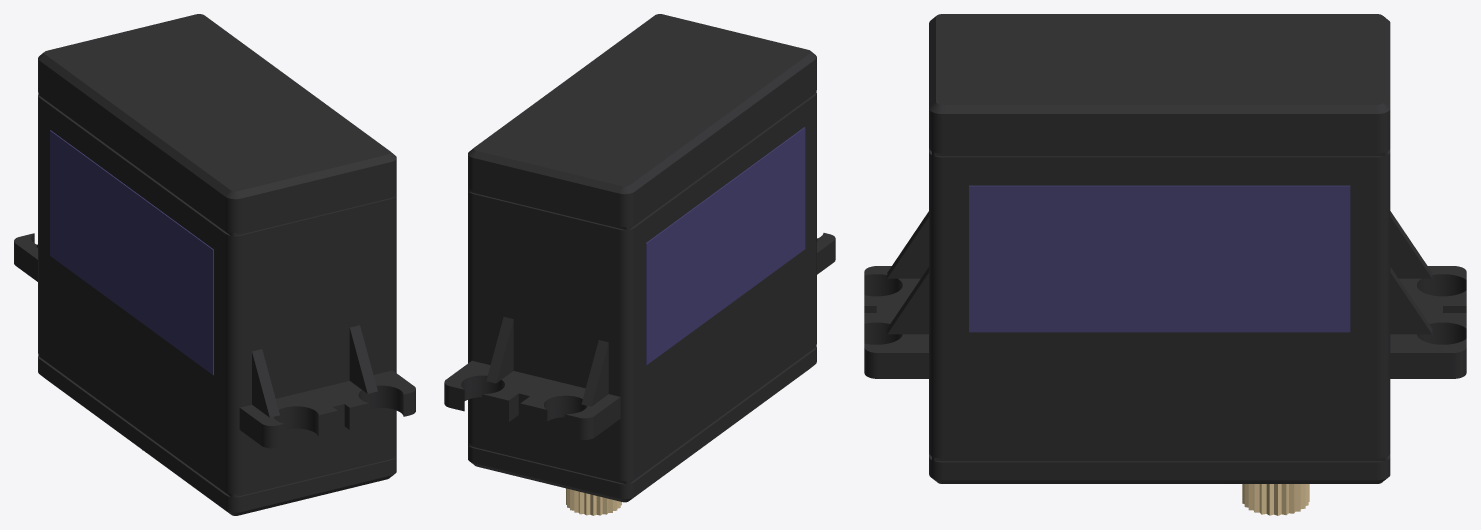
File: base-servo.glb
The picture shows the model from 3 angles, left to right: view 1: azimuth 30°, elevation 25°; view 2: azimuth 150°, elevation 25°; view 3: azimuth 270°, elevation 25°; orthographic projection. The views are drawn at different scales.
Parts seen in each view (by area): view 1: base-servo-body; view 2: base-servo-body, base-servo-hardware; view 3: base-servo-body, base-servo-hardware.
Part boxes in pixels (<box>): base-servo-body: <box>14,14,415,515</box>; base-servo-body: <box>444,14,835,502</box>; base-servo-hardware: <box>566,488,621,515</box>; base-servo-body: <box>864,14,1466,483</box>; base-servo-hardware: <box>1242,484,1309,515</box>.
Size of the model in its own units: 0.0202 by 0.0426 by 0.0526.
